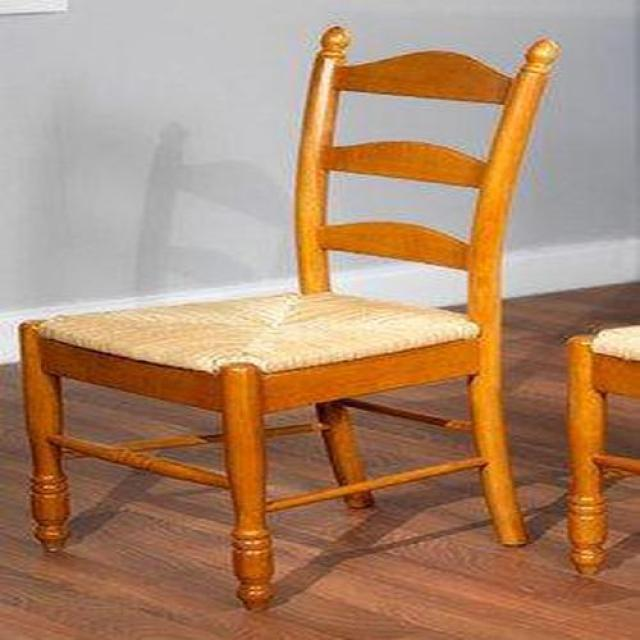chair: (19, 28, 559, 613)
